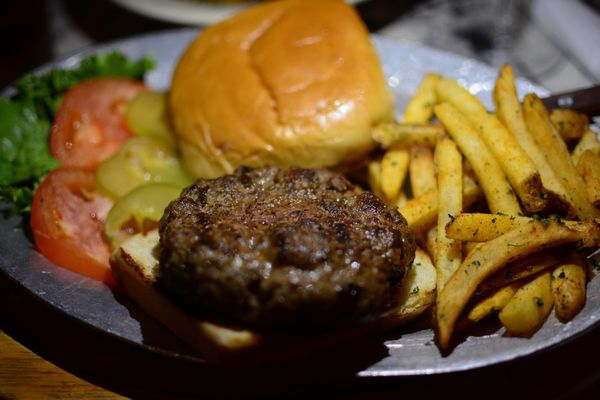curry: (0, 47, 162, 229)
